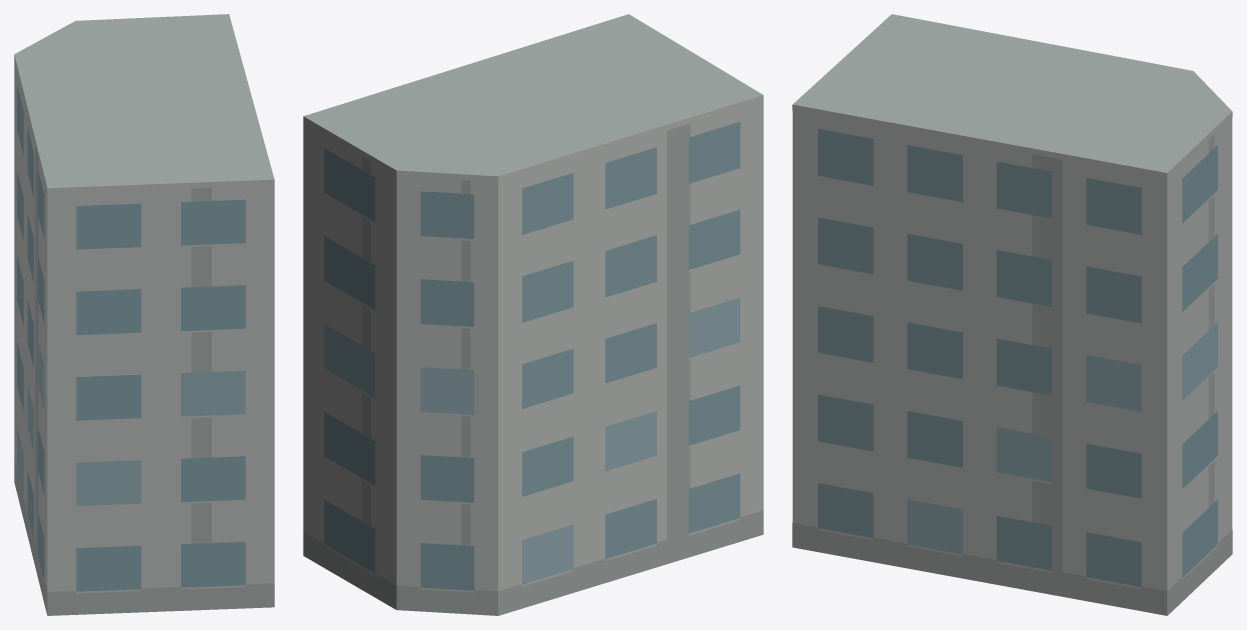
Rendered from survey-upis-32997925.glb.
The picture shows the model from 3 angles, left to right: view 1: azimuth 30°, elevation 25°; view 2: azimuth 150°, elevation 25°; view 3: azimuth 270°, elevation 25°; orthographic projection. The views are drawn at different scales.
Parts seen in each view (by area): view 1: survey-upis-32997925.tmp; view 2: survey-upis-32997925.tmp; view 3: survey-upis-32997925.tmp.
Boxes of the visible parts, x1,y1,x2,y2 form: survey-upis-32997925.tmp: (14,14,274,615); survey-upis-32997925.tmp: (303,14,763,615); survey-upis-32997925.tmp: (792,14,1232,615).
Size of the model in its own units: 13.91 by 18.04 by 16.26.
